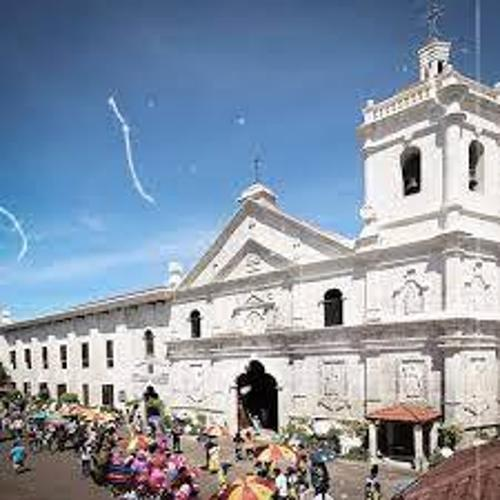Sto. Nino Basilica Church: (160, 5, 500, 461)
